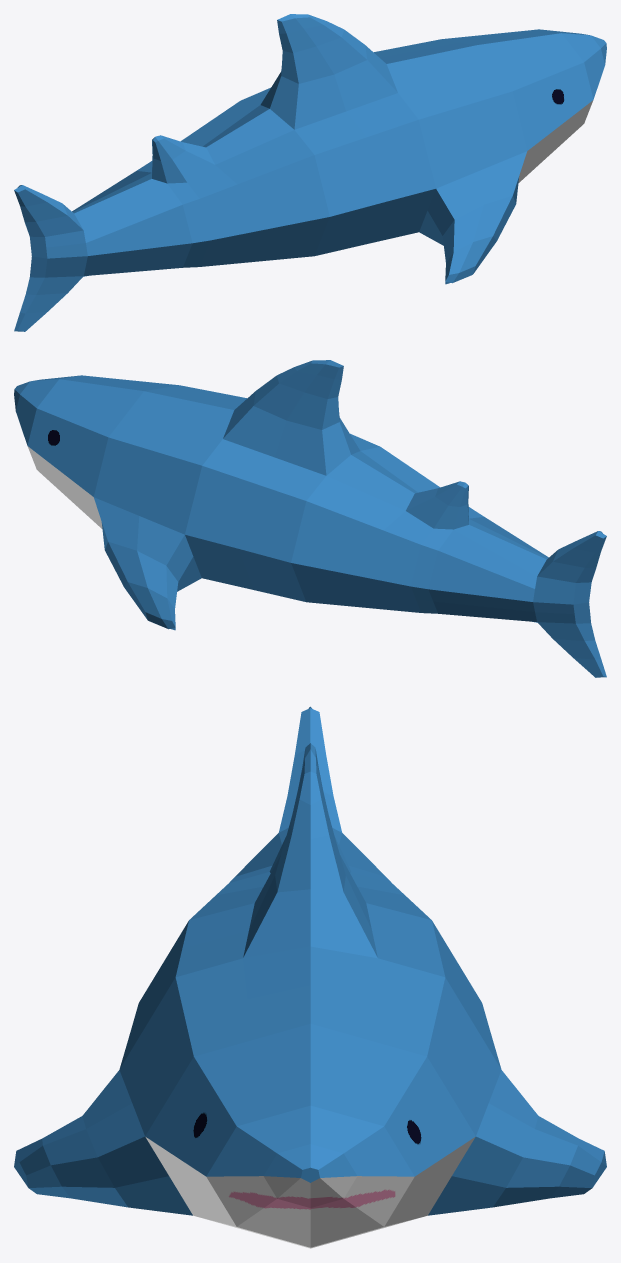
The model's file is blahaj.glb.
The picture shows the model from 3 angles, top to bottom: view 1: azimuth 30°, elevation 25°; view 2: azimuth 150°, elevation 25°; view 3: azimuth 270°, elevation 25°; orthographic projection. The views are drawn at different scales.
Parts seen in each view (by area): view 1: blahaj; view 2: blahaj; view 3: blahaj.
Part boxes in pixels (left/top/right/bottom): blahaj: left=14, top=14, right=606, bottom=331; blahaj: left=14, top=360, right=606, bottom=677; blahaj: left=14, top=706, right=606, bottom=1248.
Size of the model in its own units: 5.85 by 2.39 by 3.11.
1 material, 1 textured.
